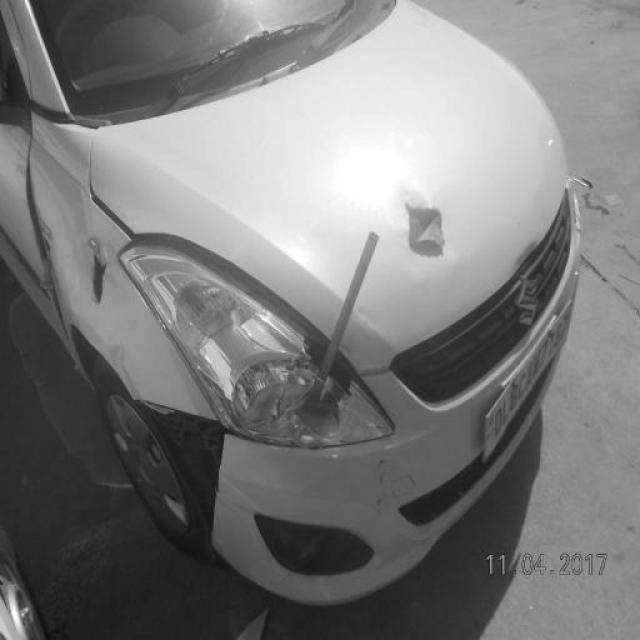misalignment: (127, 232, 359, 436), (25, 144, 65, 341)
scratch: (88, 238, 112, 306)
tear: (134, 400, 228, 551), (403, 198, 447, 263)
